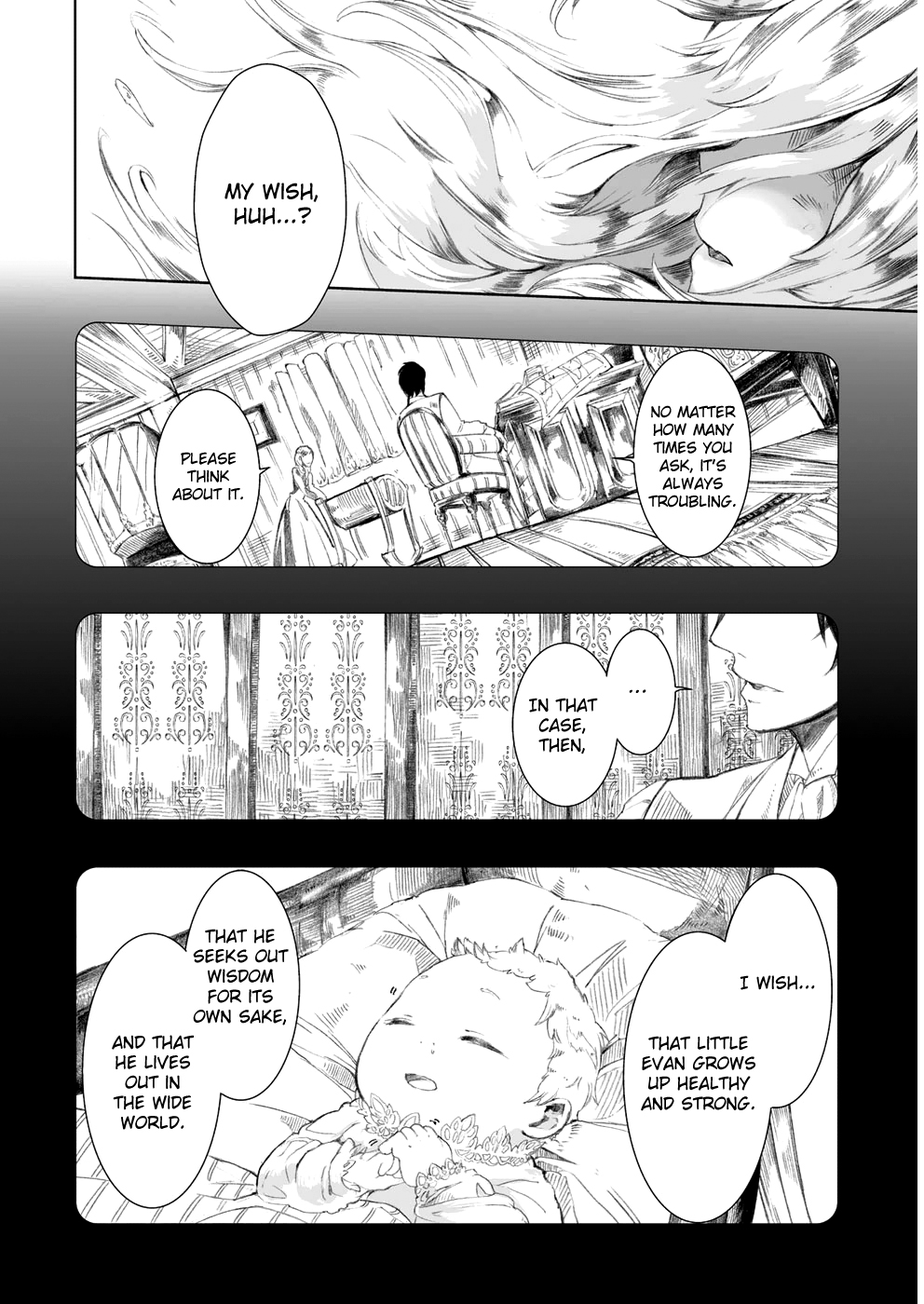bubble: (624, 932, 772, 1223), (192, 62, 346, 337), (82, 933, 221, 1209), (612, 349, 753, 557), (186, 870, 300, 1101), (726, 873, 832, 1108), (154, 390, 268, 562), (512, 644, 618, 808), (606, 629, 691, 755)
